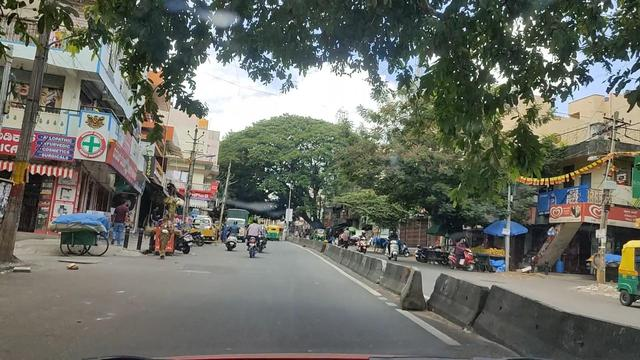RoadDamages: (72, 283, 140, 337), (165, 255, 234, 283)
